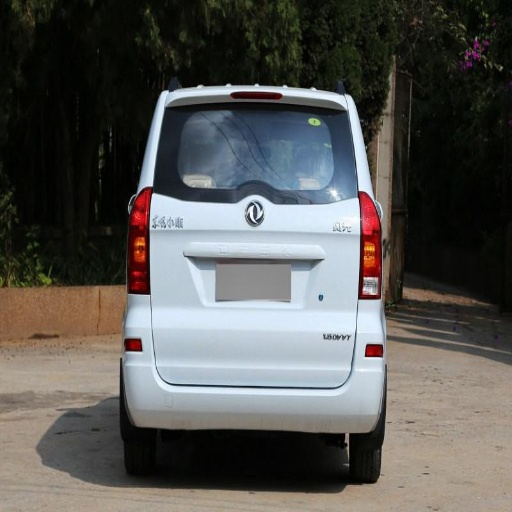back_bumper: (126, 300, 387, 431)
tailgate: (153, 186, 356, 236)
trunk: (140, 196, 367, 382)
